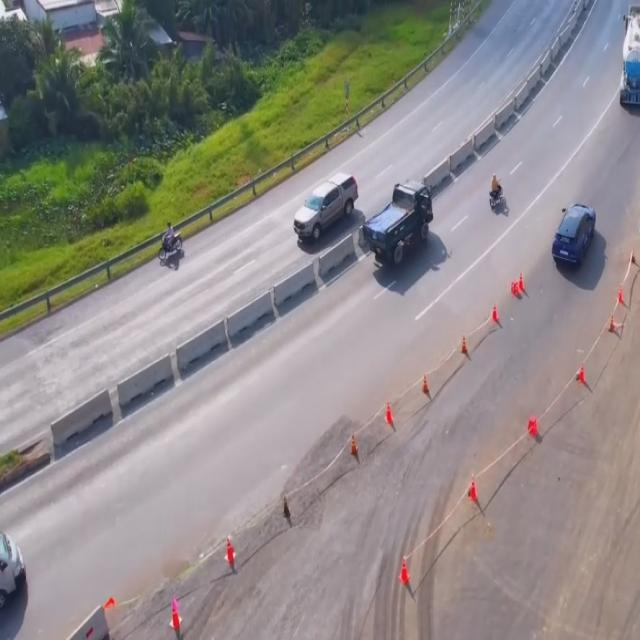car: (296, 175, 364, 249), (548, 205, 596, 276)
motorbike: (160, 223, 184, 262), (489, 177, 506, 210)
truck: (363, 181, 431, 267), (622, 1, 640, 116)
